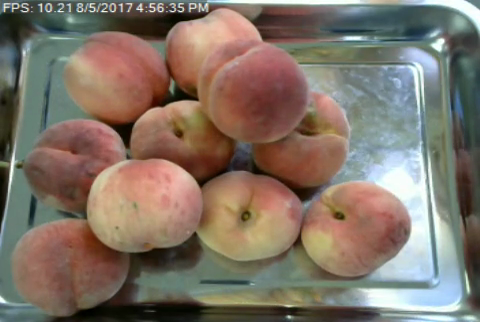Peach: (11, 216, 128, 316), (201, 38, 309, 141), (299, 179, 412, 275), (88, 156, 199, 252), (62, 29, 169, 125), (24, 118, 126, 214), (194, 171, 305, 259), (252, 91, 350, 185), (165, 8, 264, 97), (129, 99, 235, 178)
